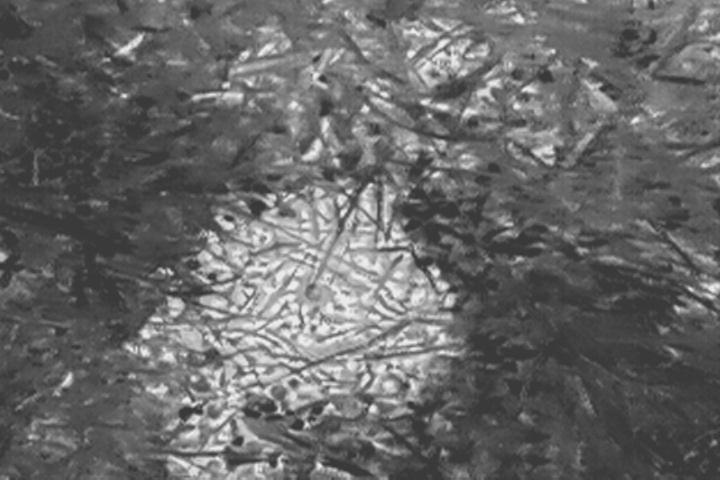landmine: (157, 160, 461, 426)
